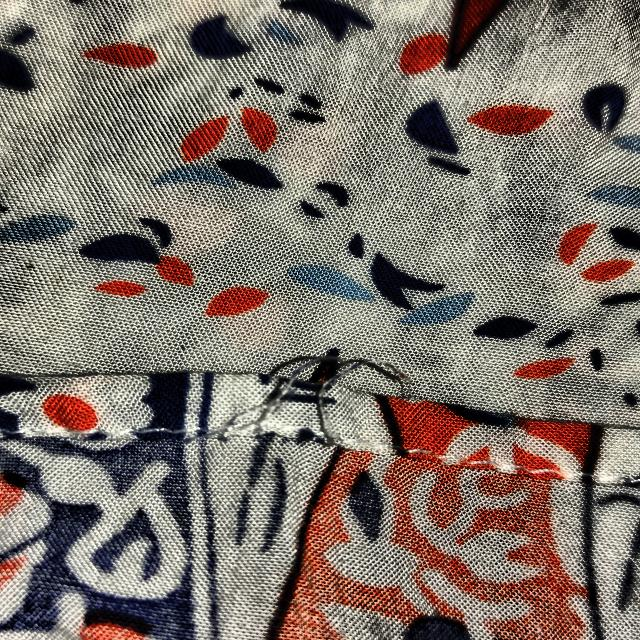Stitch: (174, 331, 422, 501)
